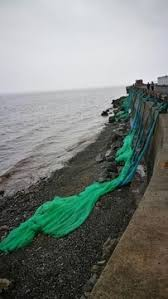net: (1, 176, 123, 250), (111, 131, 137, 183), (116, 93, 135, 123)
